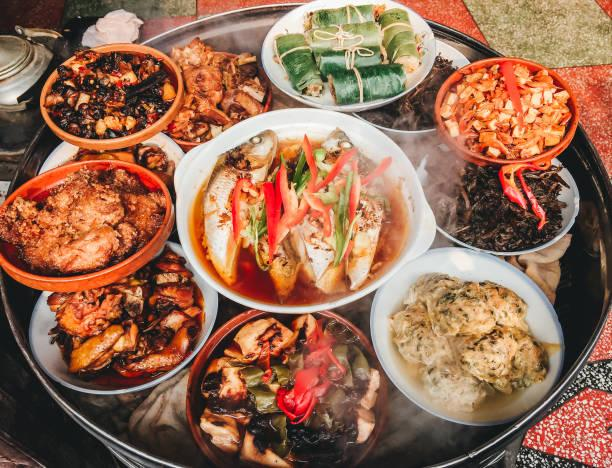Braised Crucian Carp: (174, 107, 428, 311), (369, 248, 562, 426), (184, 308, 382, 467), (26, 240, 213, 394), (0, 158, 174, 289), (259, 0, 435, 113), (433, 57, 577, 169), (38, 42, 183, 150)
